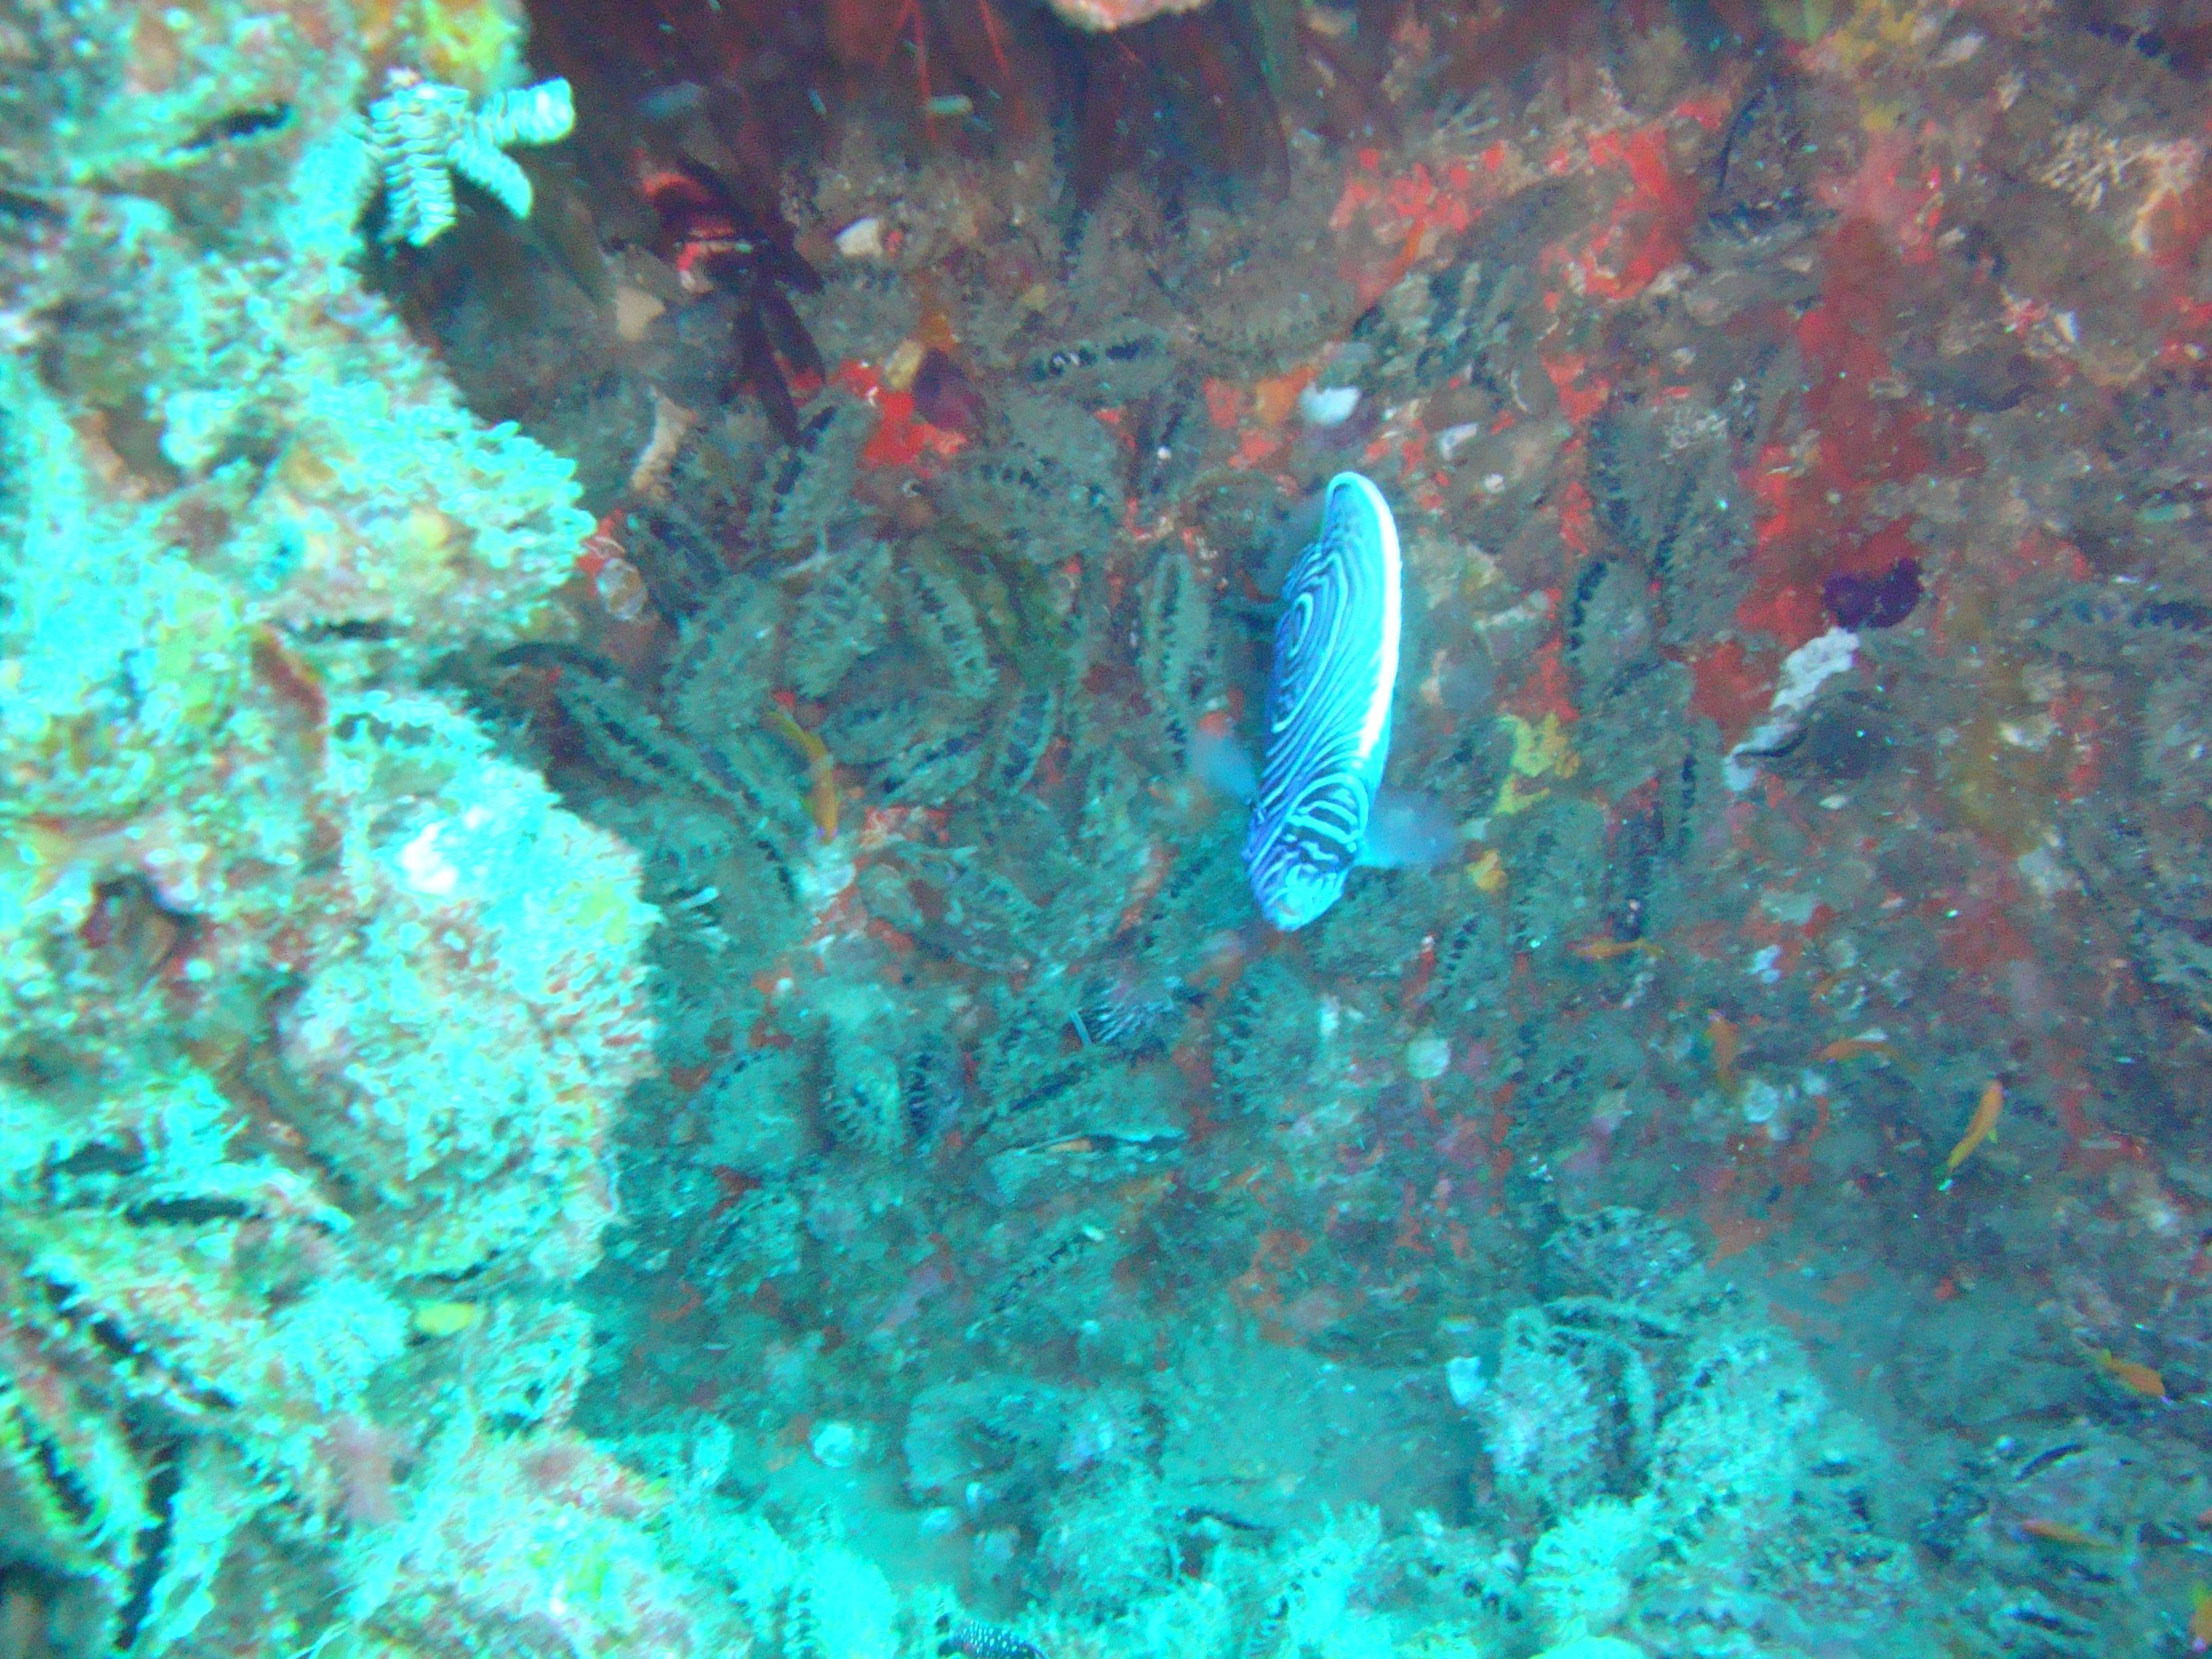Fish: (1170, 451, 1552, 1000)
